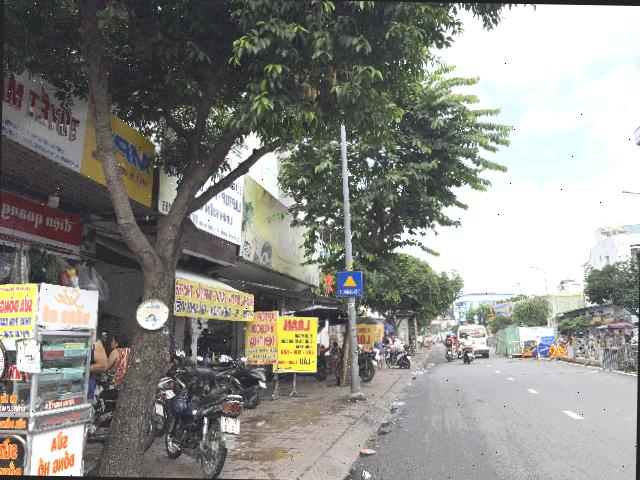khu-vuc-cho-phia-truoc: (338, 271, 362, 296)
